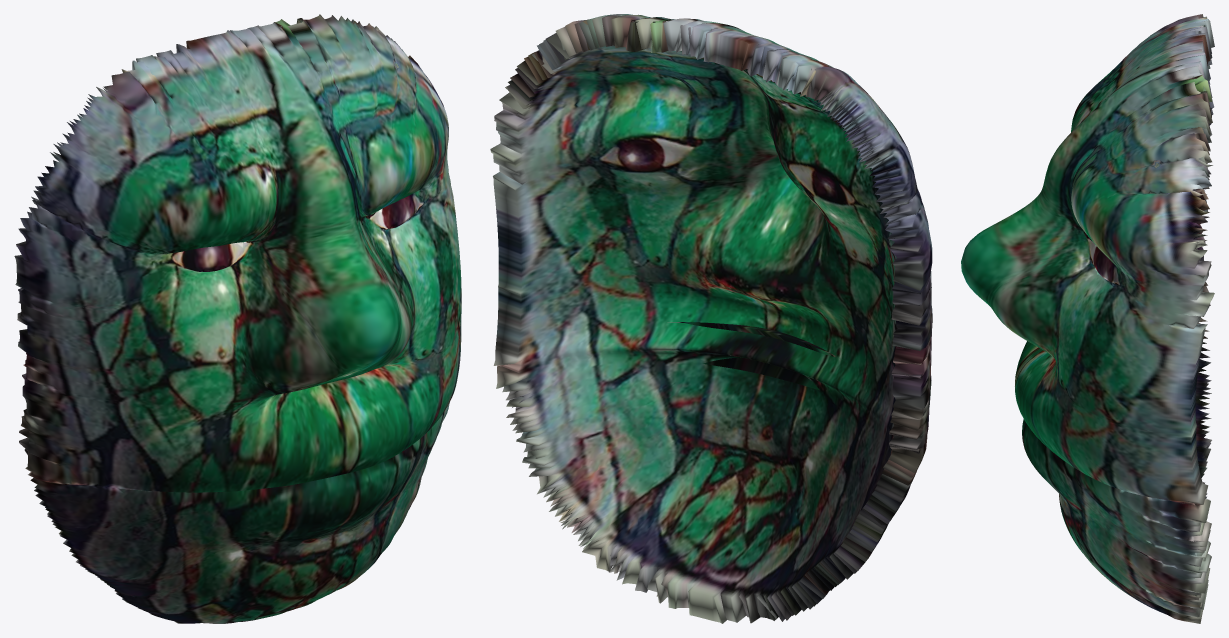
Rendered from MascaraPakal.fbx.
The picture shows the model from 3 angles, left to right: view 1: azimuth 30°, elevation 25°; view 2: azimuth 150°, elevation 25°; view 3: azimuth 270°, elevation 25°; orthographic projection. The views are drawn at different scales.
Visible parts, largest first — view 1: MascaraPakal; view 2: MascaraPakal; view 3: MascaraPakal.
Boxes of the visible parts, x1,y1,x2,y2 form: MascaraPakal: (14, 14, 461, 623); MascaraPakal: (490, 14, 932, 623); MascaraPakal: (961, 14, 1214, 623).
Bounding box in the file's own units: 0.2018 × 0.2633 × 0.1118.
Materials: 1 (1 with a texture image).
